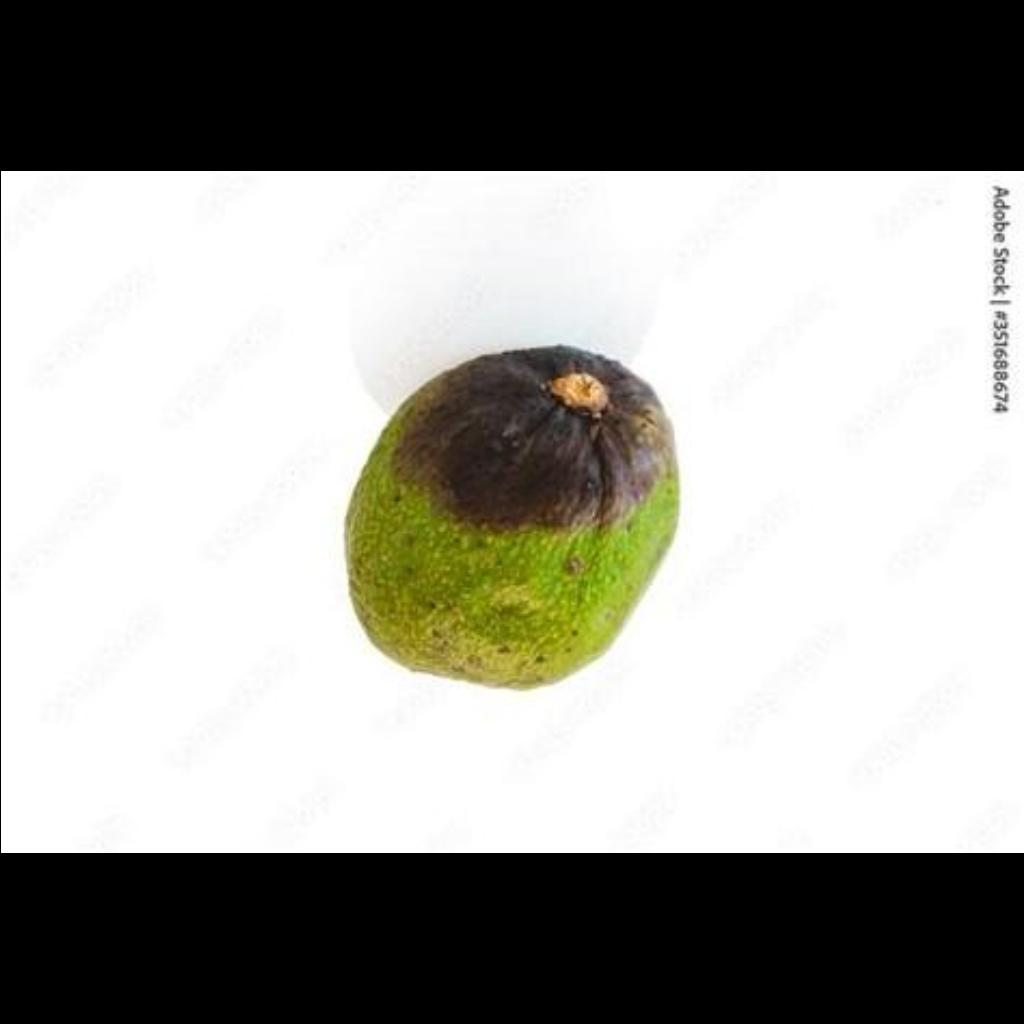Anthracnose: (368, 330, 686, 610)
